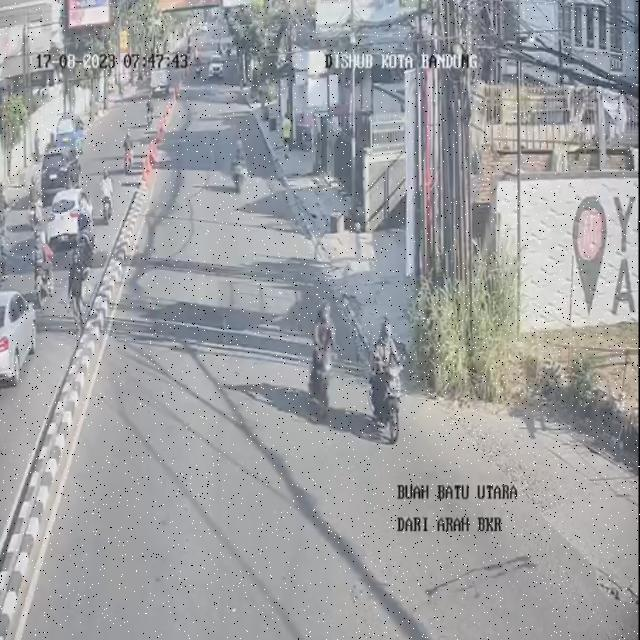motorcycle: (298, 290, 344, 433), (368, 307, 408, 442), (228, 138, 247, 198)
